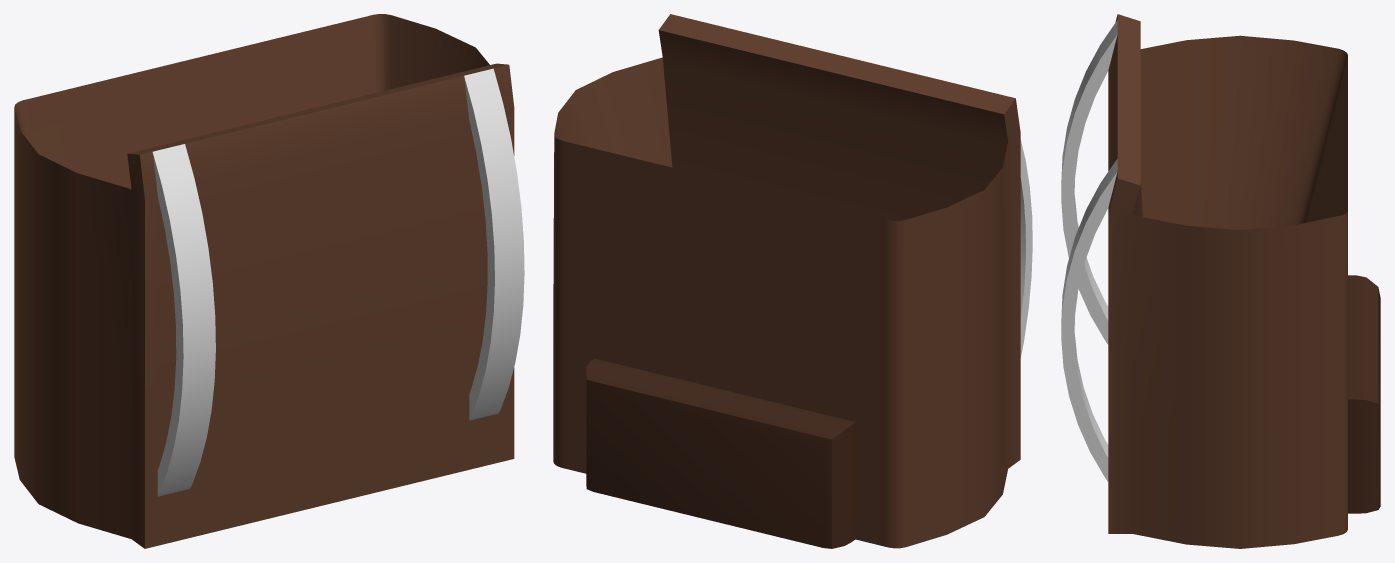
File: CANTA.fbx
3 renders of one model, left to right at view 1: azimuth 30°, elevation 25°; view 2: azimuth 150°, elevation 25°; view 3: azimuth 270°, elevation 25°, orthographic. The views are drawn at different scales.
Visible parts, largest first — view 1: Cube.005; view 2: Cube.005; view 3: Cube.005.
Part boxes in pixels (x1=…): Cube.005: x1=14, y1=14, x2=524, y2=548; Cube.005: x1=553, y1=14, x2=1032, y2=548; Cube.005: x1=1061, y1=14, x2=1380, y2=548.
Size of the model in its own units: 0.00762 by 0.0065 by 0.0053.
